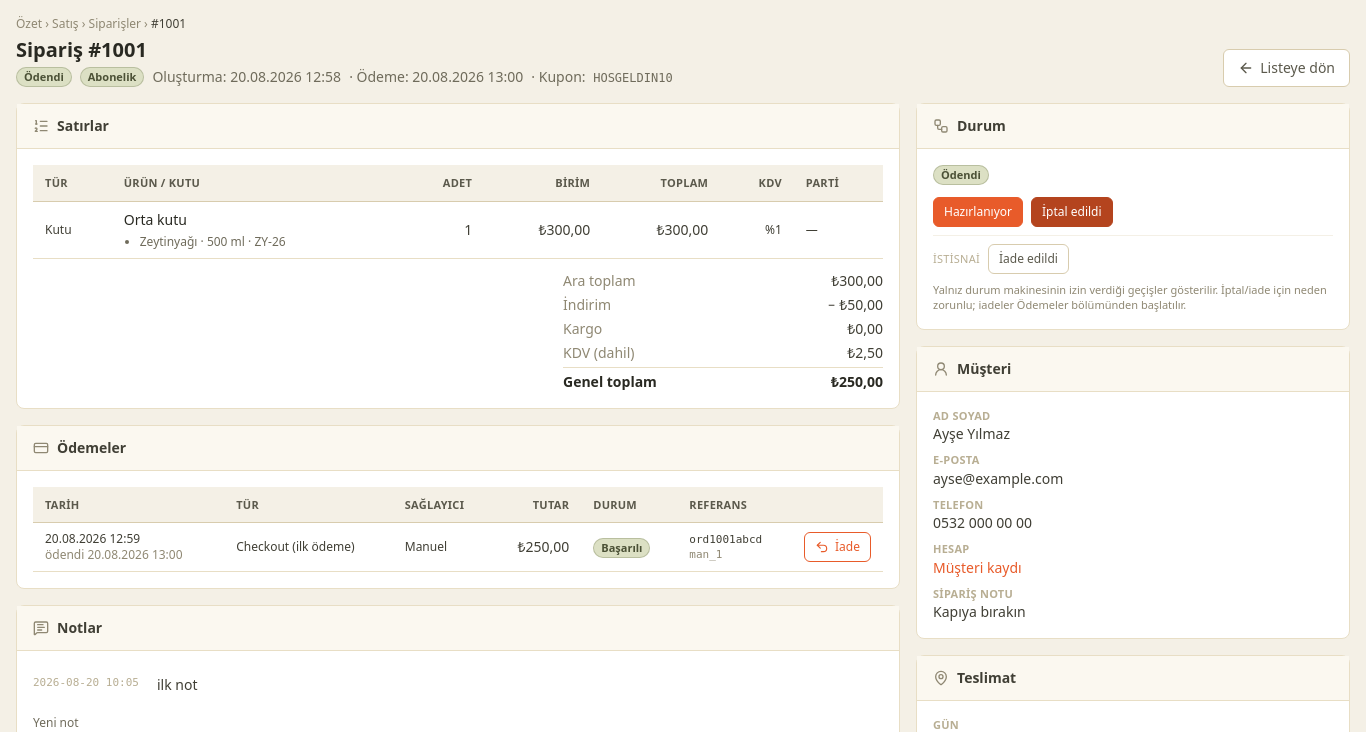
it: AdminSiparisDetayPage › Hazırlanıyor → onay → PATCH /status {status:PREPARING}; yeni durumda düğmeler değişir
Click the button "Hazırlanıyor". click: (978, 212)
box: [933,197,1023,227]
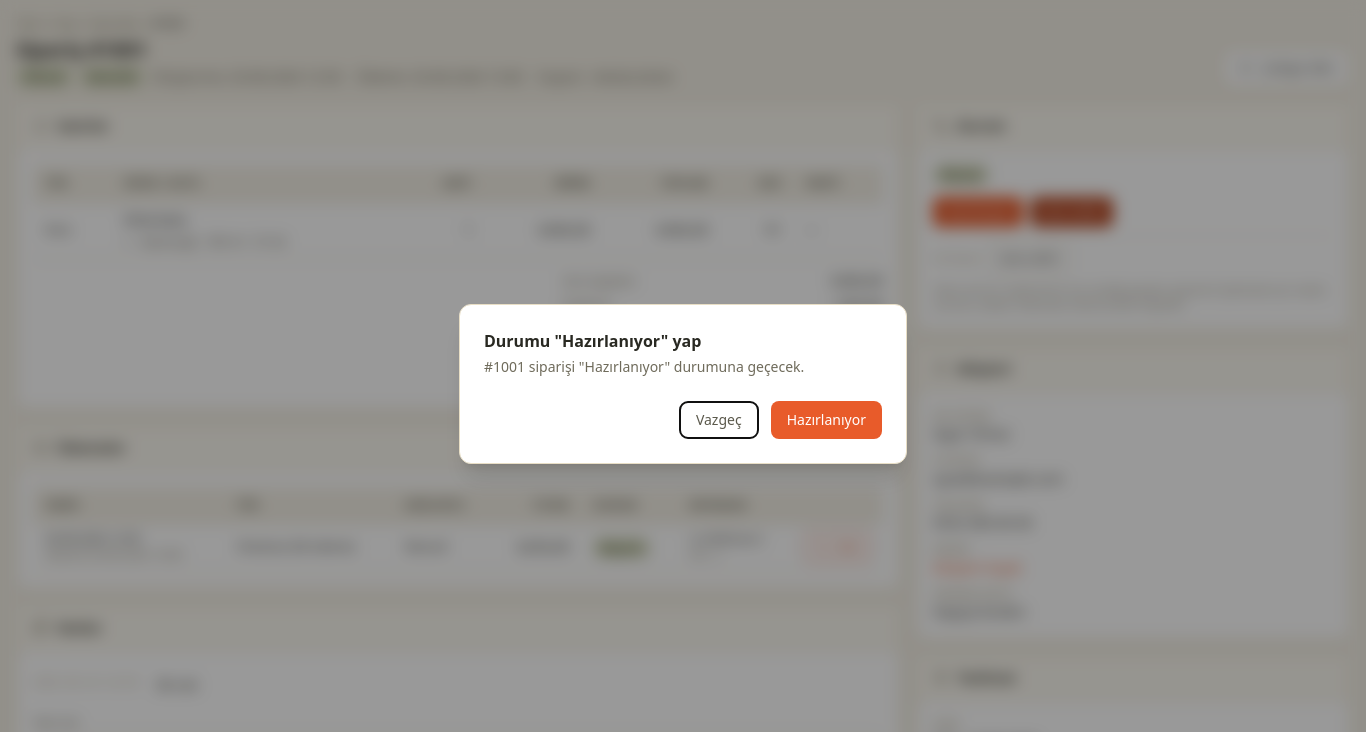
Click the button "Hazırlanıyor". click: (826, 420)
box: [771,401,882,439]
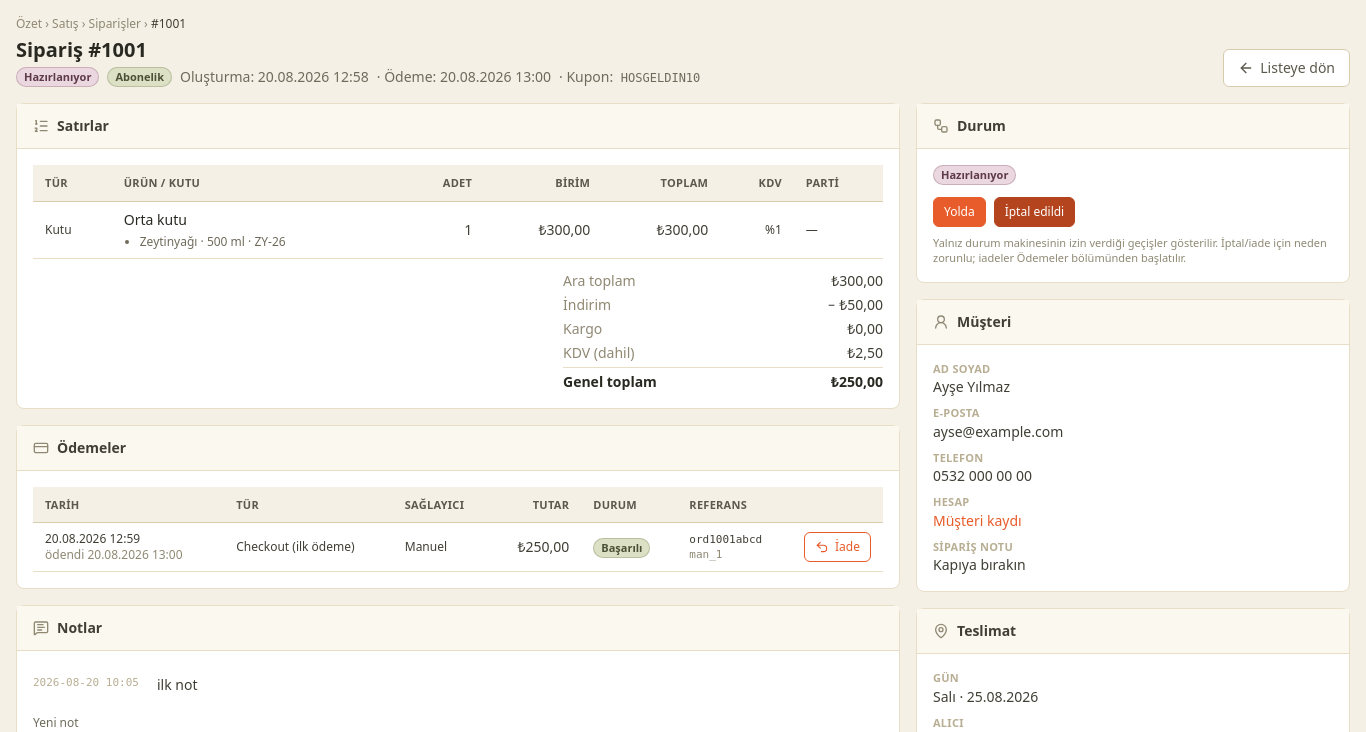
Result: the button "Yolda" is shown at [933,197,986,227]
